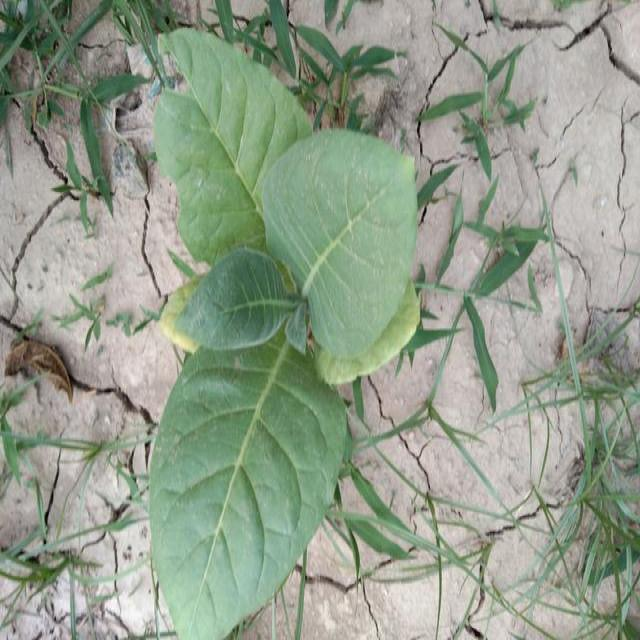crop: (144, 36, 416, 640)
